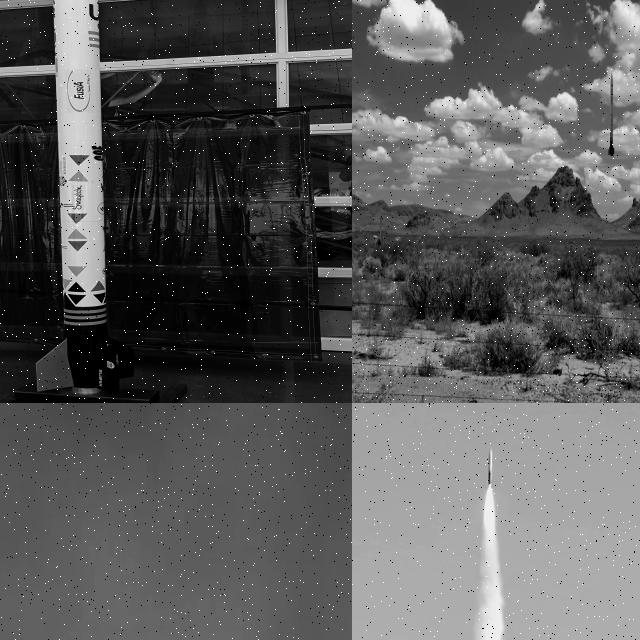Rocket: (35, 0, 134, 396), (608, 71, 614, 157), (487, 446, 493, 484)
